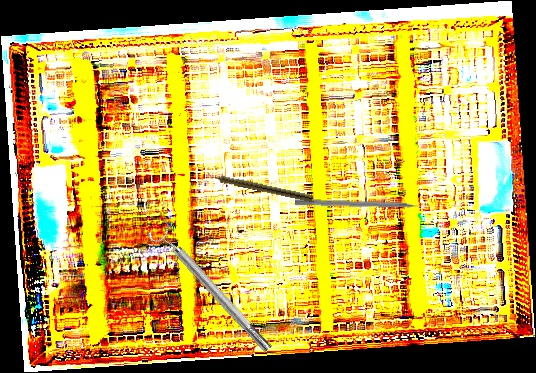Fixation Ring: (145, 217, 278, 360)
Handpiece: (206, 170, 314, 203)
Pusher: (294, 198, 434, 212)
